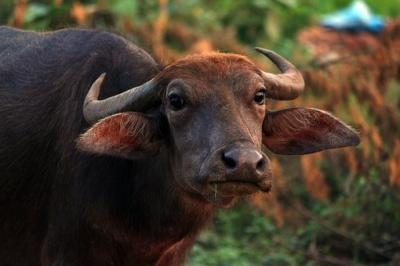buffalo: (0, 29, 362, 266)
